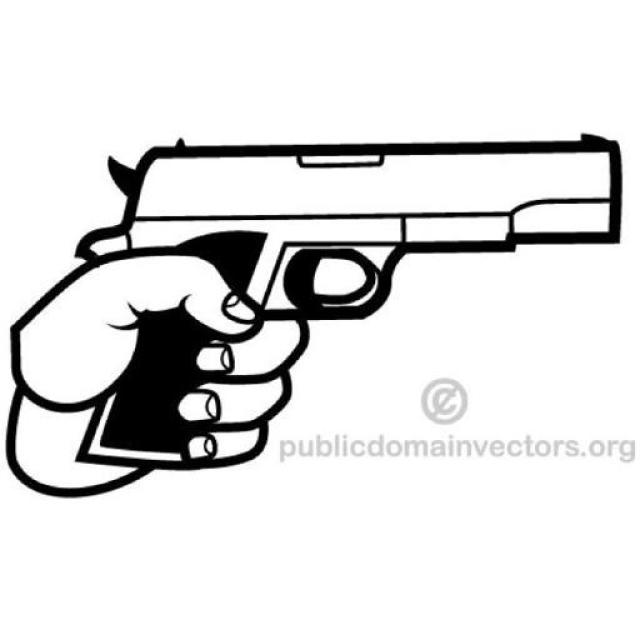pistol: (77, 131, 620, 466)
